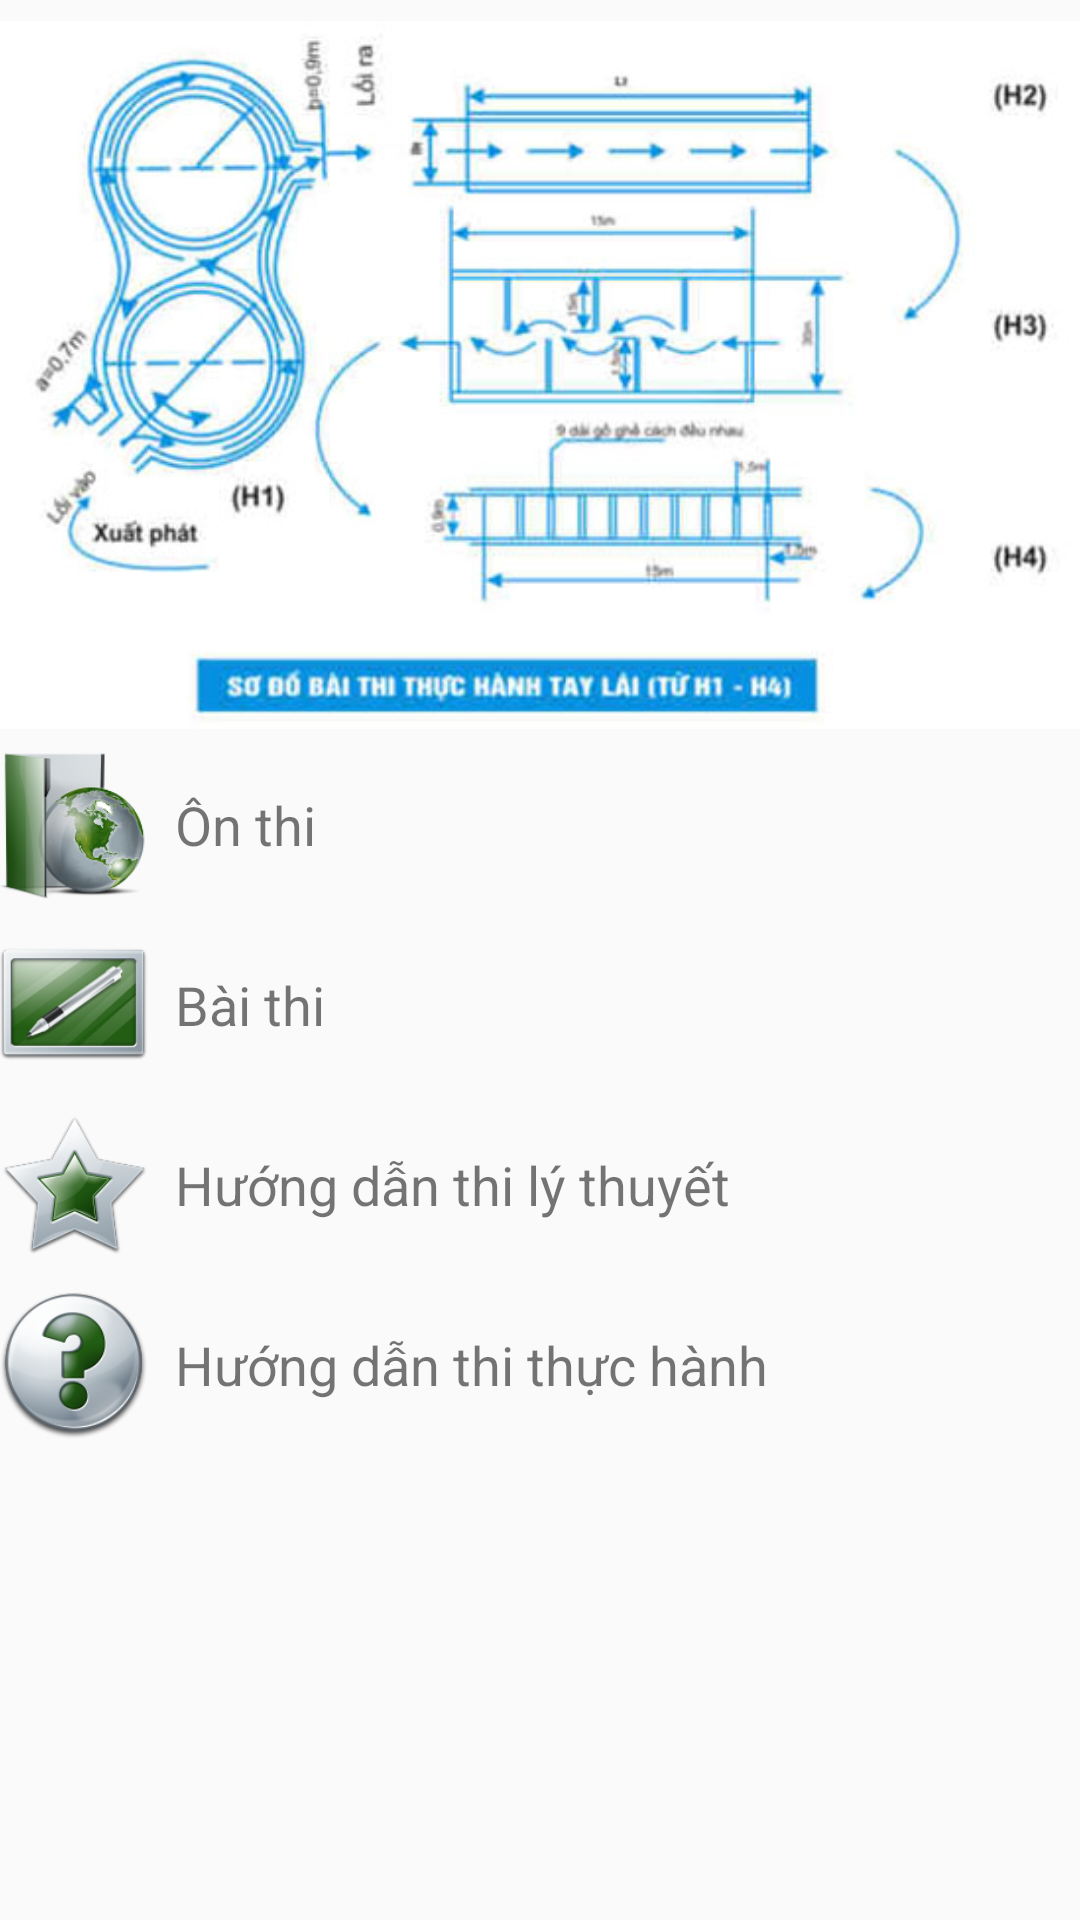

Screen size 1080x1920. Icon name, then its box in pixels as {"x1": x1, "y1": y1, "x2": x2, "y2": y2}:
guide: {"x1": 3, "y1": 1293, "x2": 145, "y2": 1436}
